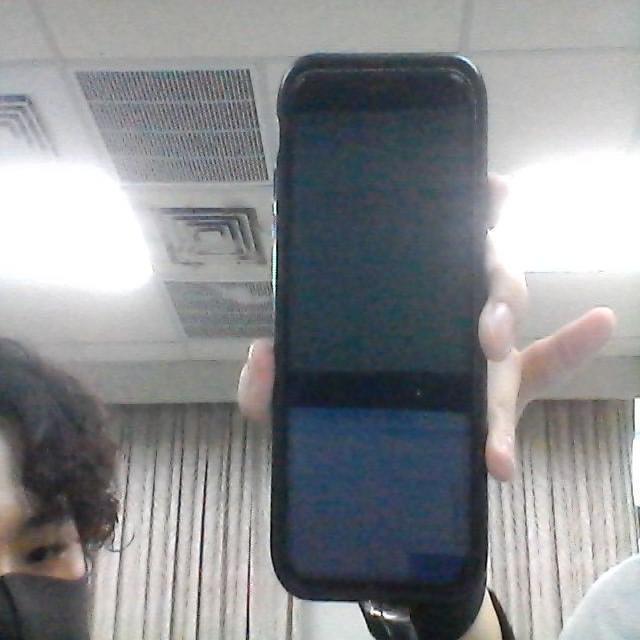Phone: (270, 47, 490, 609)
